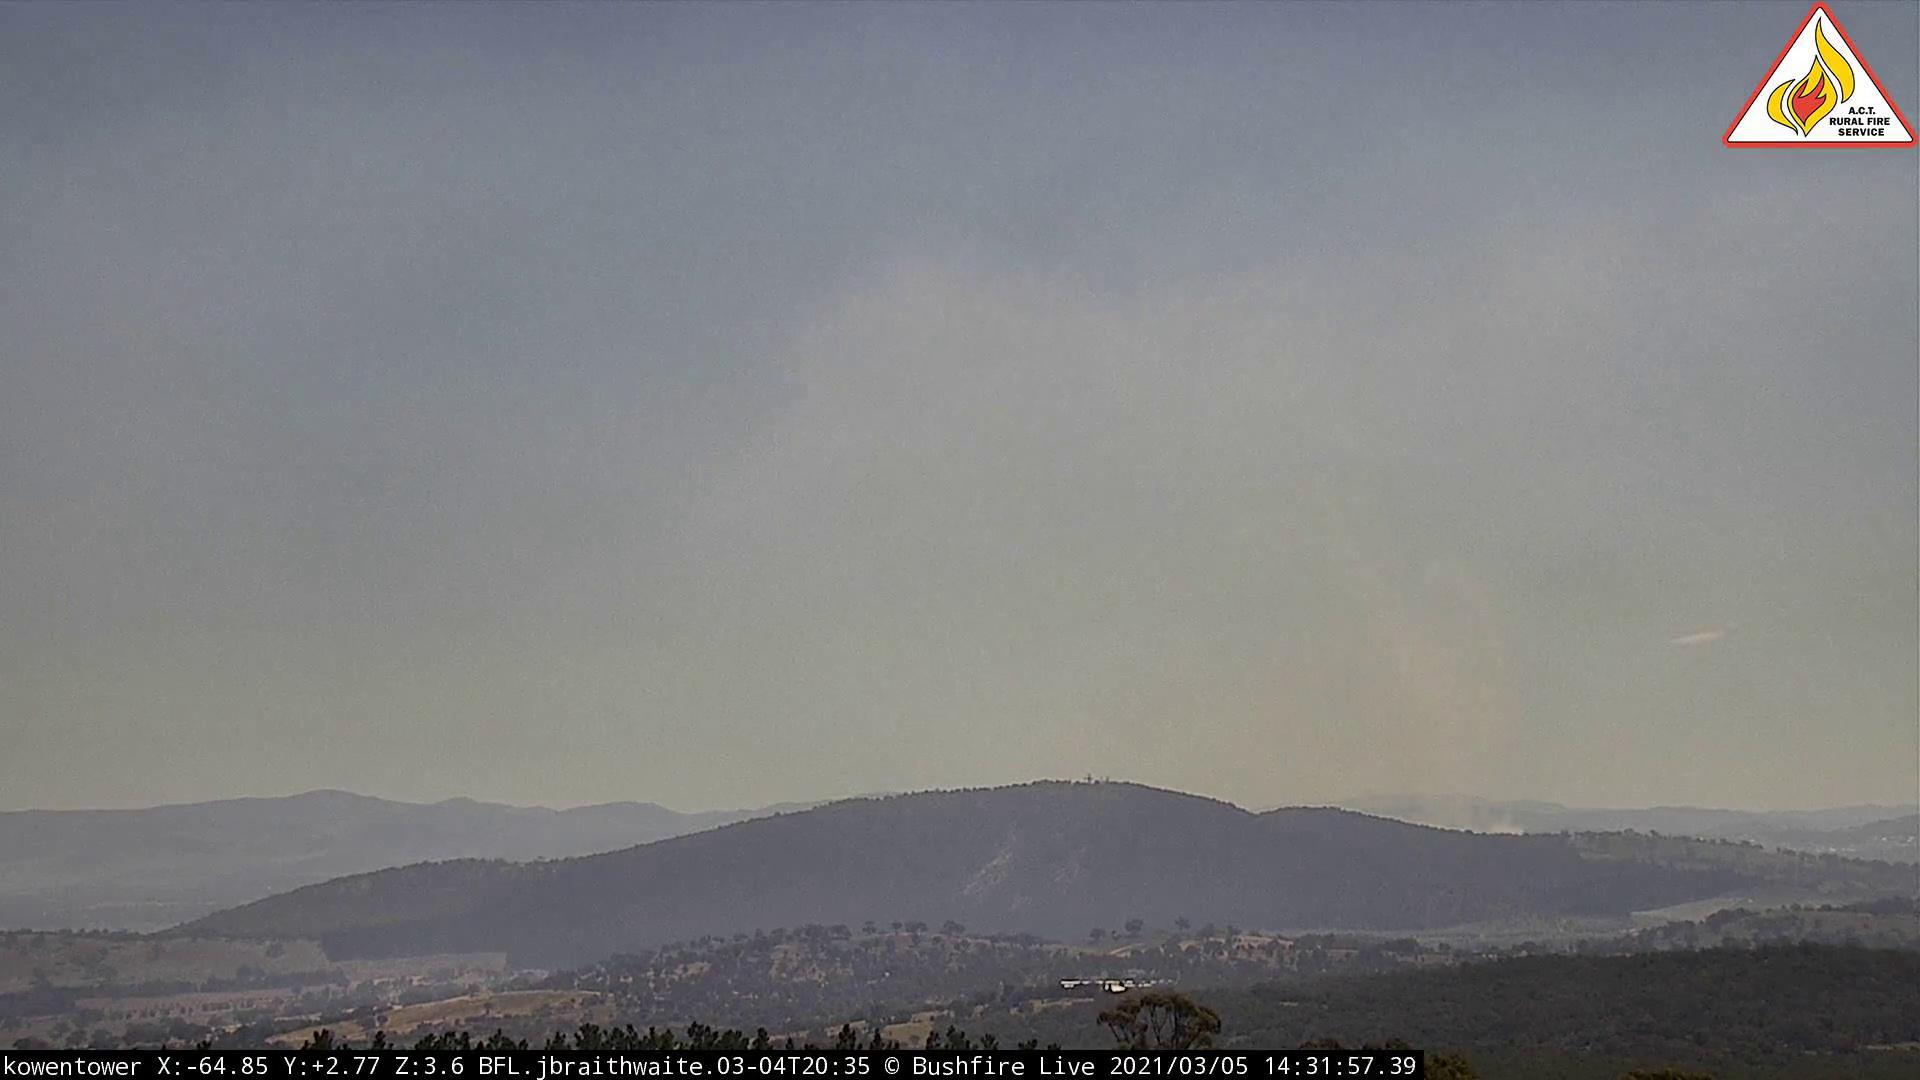instance_salient_object: (1025, 537, 1534, 847)
